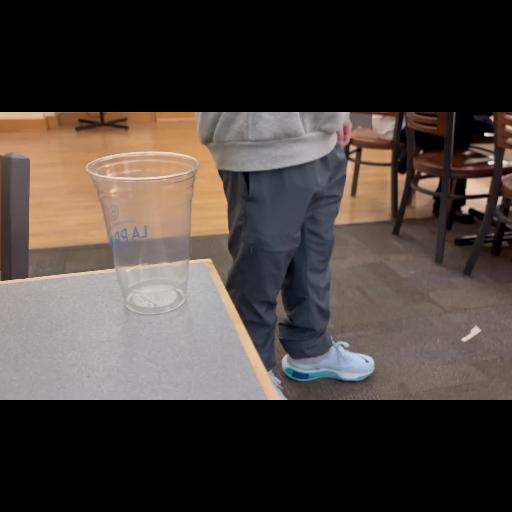lp_plastic_cup: (85, 152, 199, 316)
